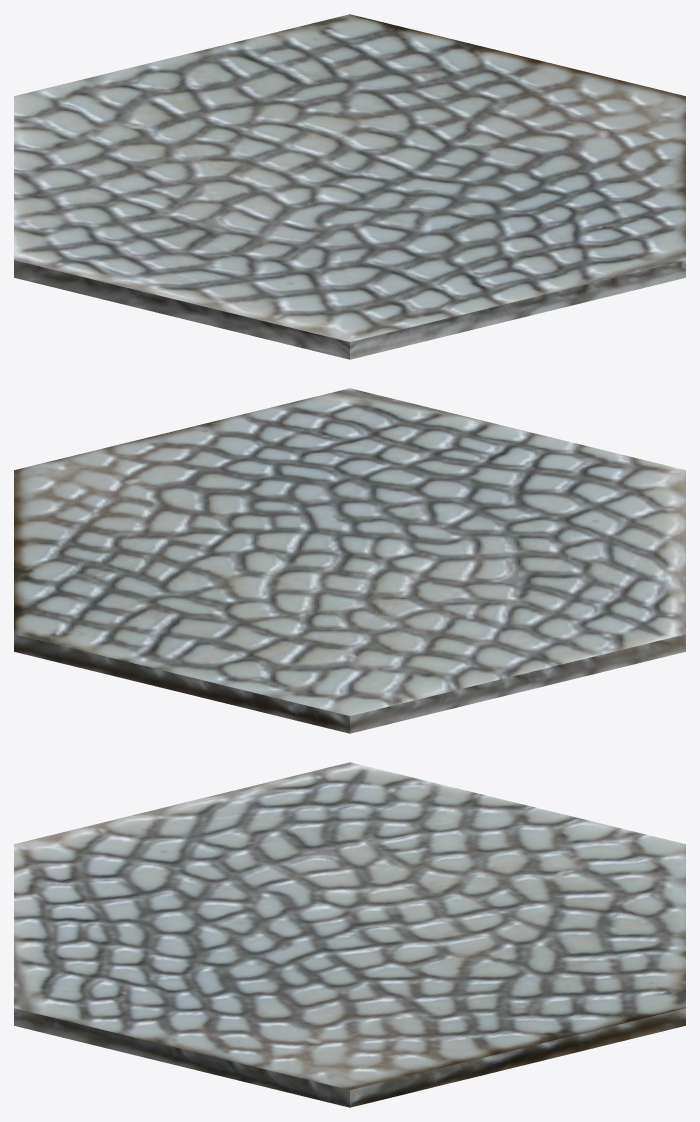
File: road-cap-textured.glb
3 renders of one model, top to bottom at view 1: azimuth 30°, elevation 25°; view 2: azimuth 150°, elevation 25°; view 3: azimuth 270°, elevation 25°, orthographic.
Visible parts, largest first — view 1: RoadCapTextured; view 2: RoadCapTextured; view 3: RoadCapTextured.
Part boxes in pixels (bbox=[...]): RoadCapTextured: bbox=[14, 14, 685, 359]; RoadCapTextured: bbox=[14, 388, 685, 733]; RoadCapTextured: bbox=[14, 762, 685, 1107].
Size of the model in its own units: 2 by 0.05 by 1.73.
1 material, 1 textured.
